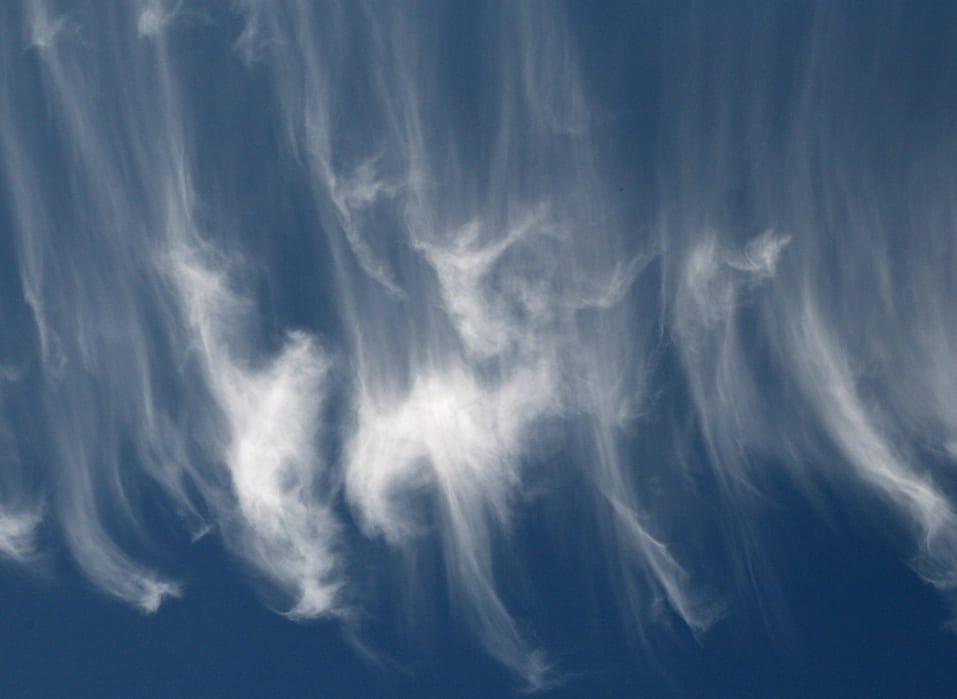Cirrus: (319, 24, 696, 680), (10, 9, 341, 642), (664, 15, 955, 601)
